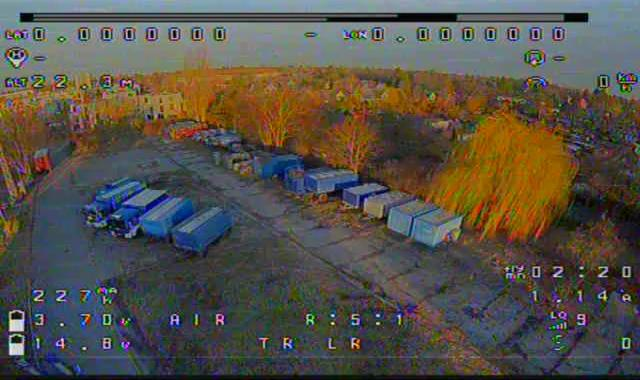truck: (75, 173, 150, 232), (102, 186, 175, 240)
